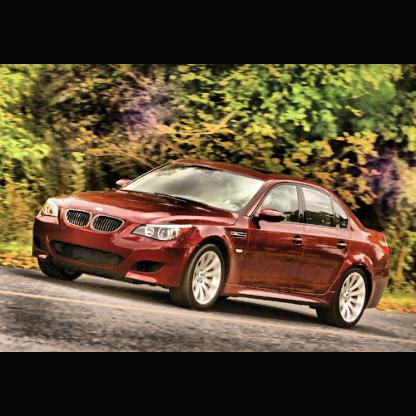BMW M5 Sedan 2010: (33, 158, 389, 330)
